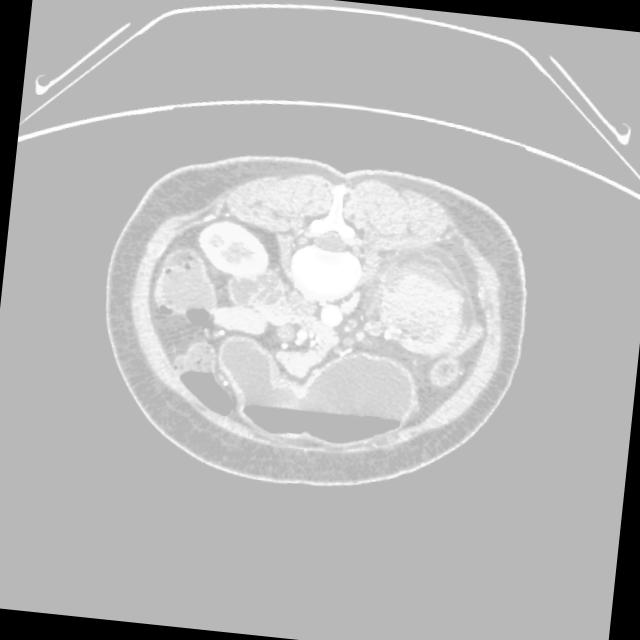TUMOR: (71, 233, 460, 459)
